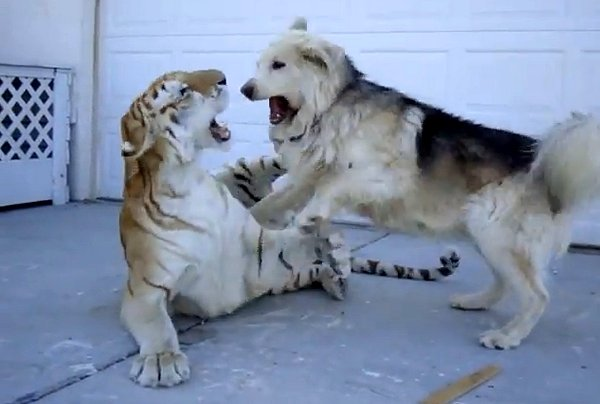dog: (240, 18, 600, 352)
tiger: (119, 68, 401, 391)
